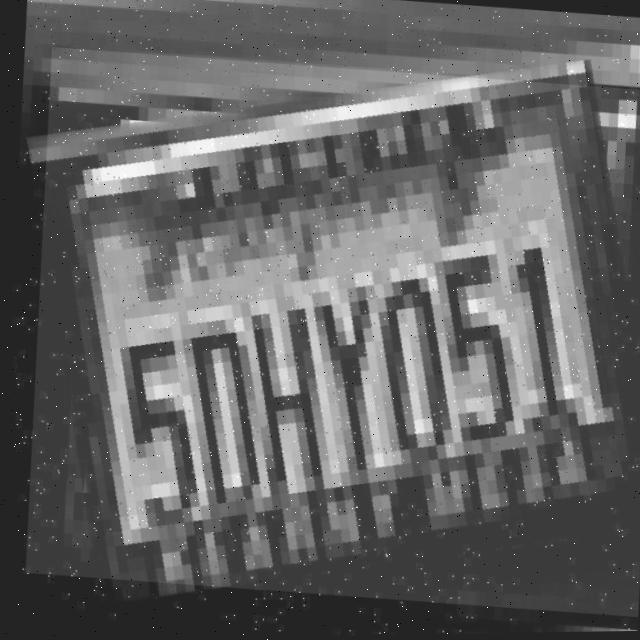LicensePlate: (4, 40, 640, 625)
